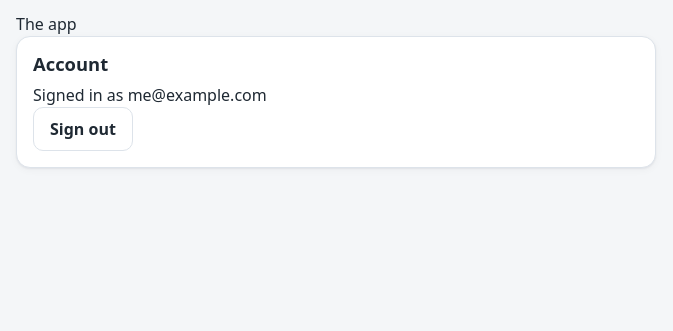
Test: LoginGate › returns to the form after signing out
Click the button "Sign out": [83, 129] box top-left (33, 107), bottom-right (133, 151)
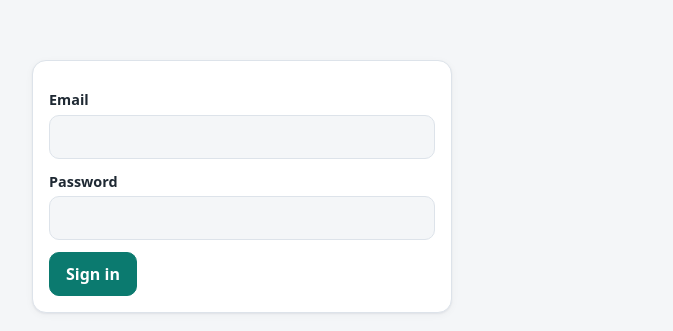
expect the field labelled "Email" is shown: met, box top-left (49, 115), bottom-right (435, 159)
expect the text "The app" is gone: met
